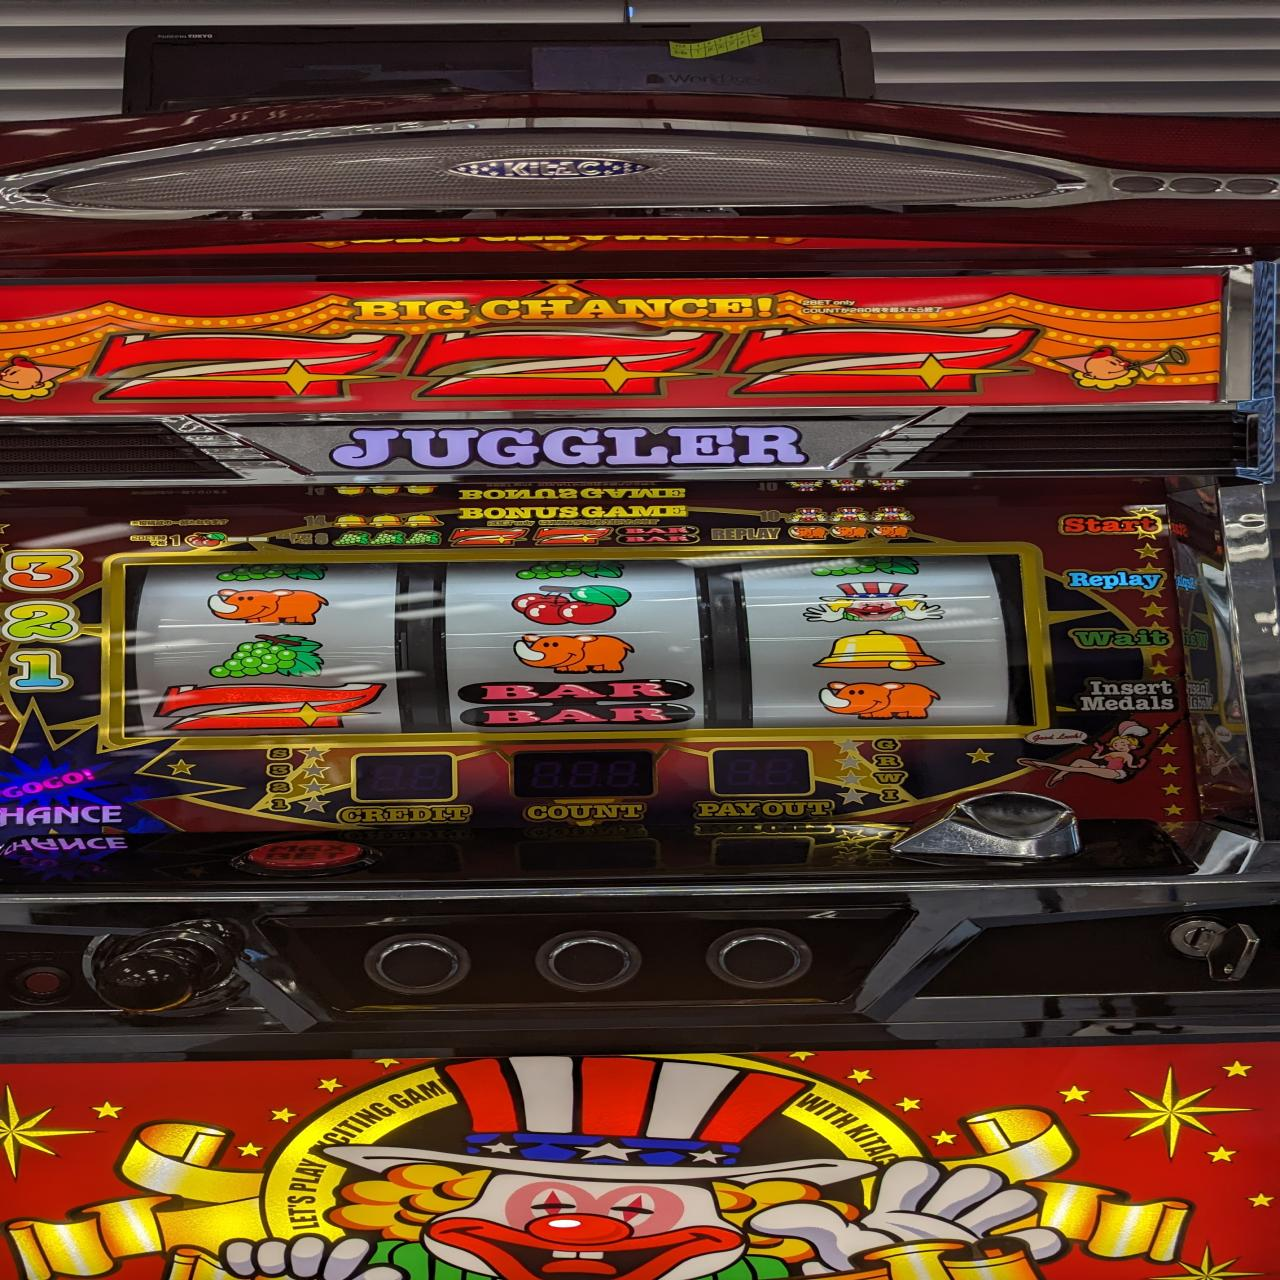7: (155, 683, 389, 731)
Display: (105, 552, 1049, 734)
bar: (461, 678, 694, 728)
bell: (816, 629, 948, 673)
cherry: (508, 584, 632, 626)
clown: (802, 580, 946, 624)
grape: (206, 633, 340, 680)
rhino: (512, 631, 635, 676), (818, 681, 942, 722), (205, 587, 329, 626)
